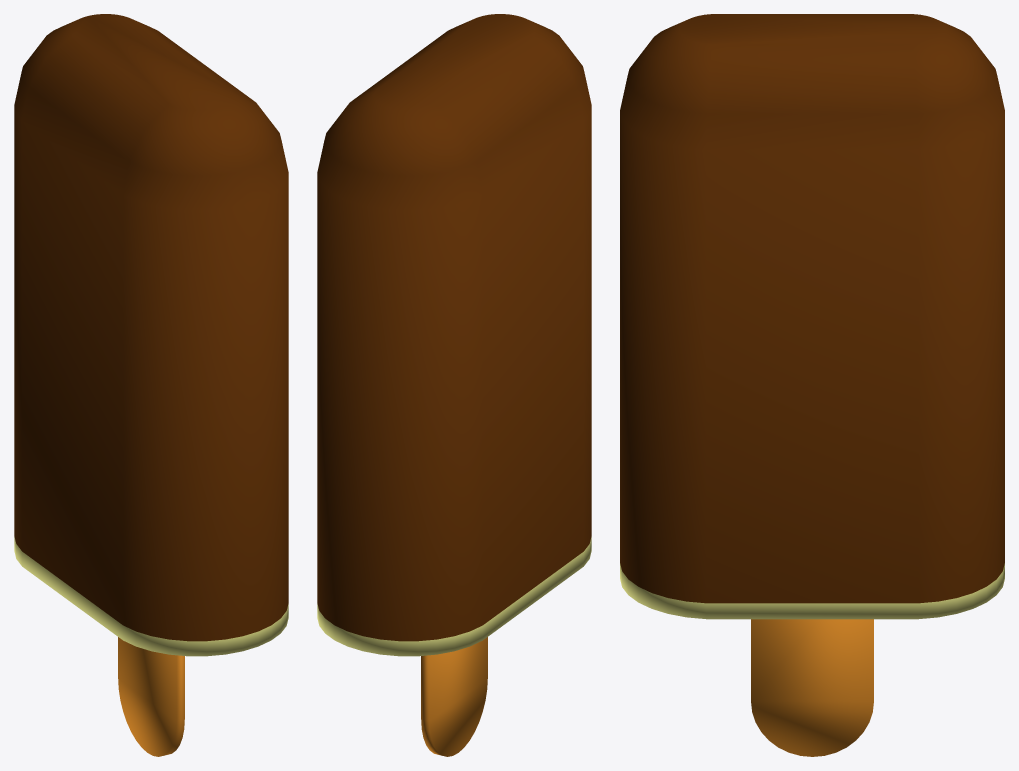
Rendered from ice_cream.fbx.
The picture shows the model from 3 angles, left to right: view 1: azimuth 30°, elevation 25°; view 2: azimuth 150°, elevation 25°; view 3: azimuth 270°, elevation 25°; orthographic projection. The views are drawn at different scales.
Visible parts, largest first — view 1: Cylinder; view 2: Cylinder; view 3: Cylinder.
Part boxes in pixels (x1,y1,x2,y2): Cylinder: (14,14,288,756); Cylinder: (317,14,591,756); Cylinder: (620,14,1004,756).
Bounding box in the file's own units: 0.28 × 1.17 × 0.5632.
